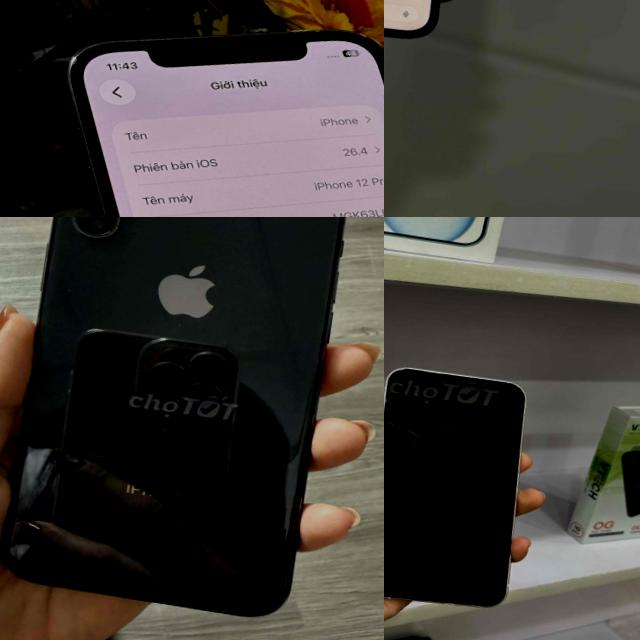scratch: (51, 274, 85, 300), (264, 425, 286, 455), (166, 314, 195, 332)
